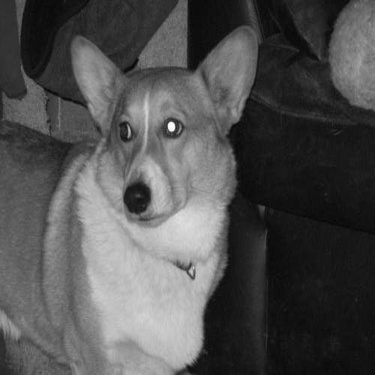dog: (1, 19, 265, 373)
